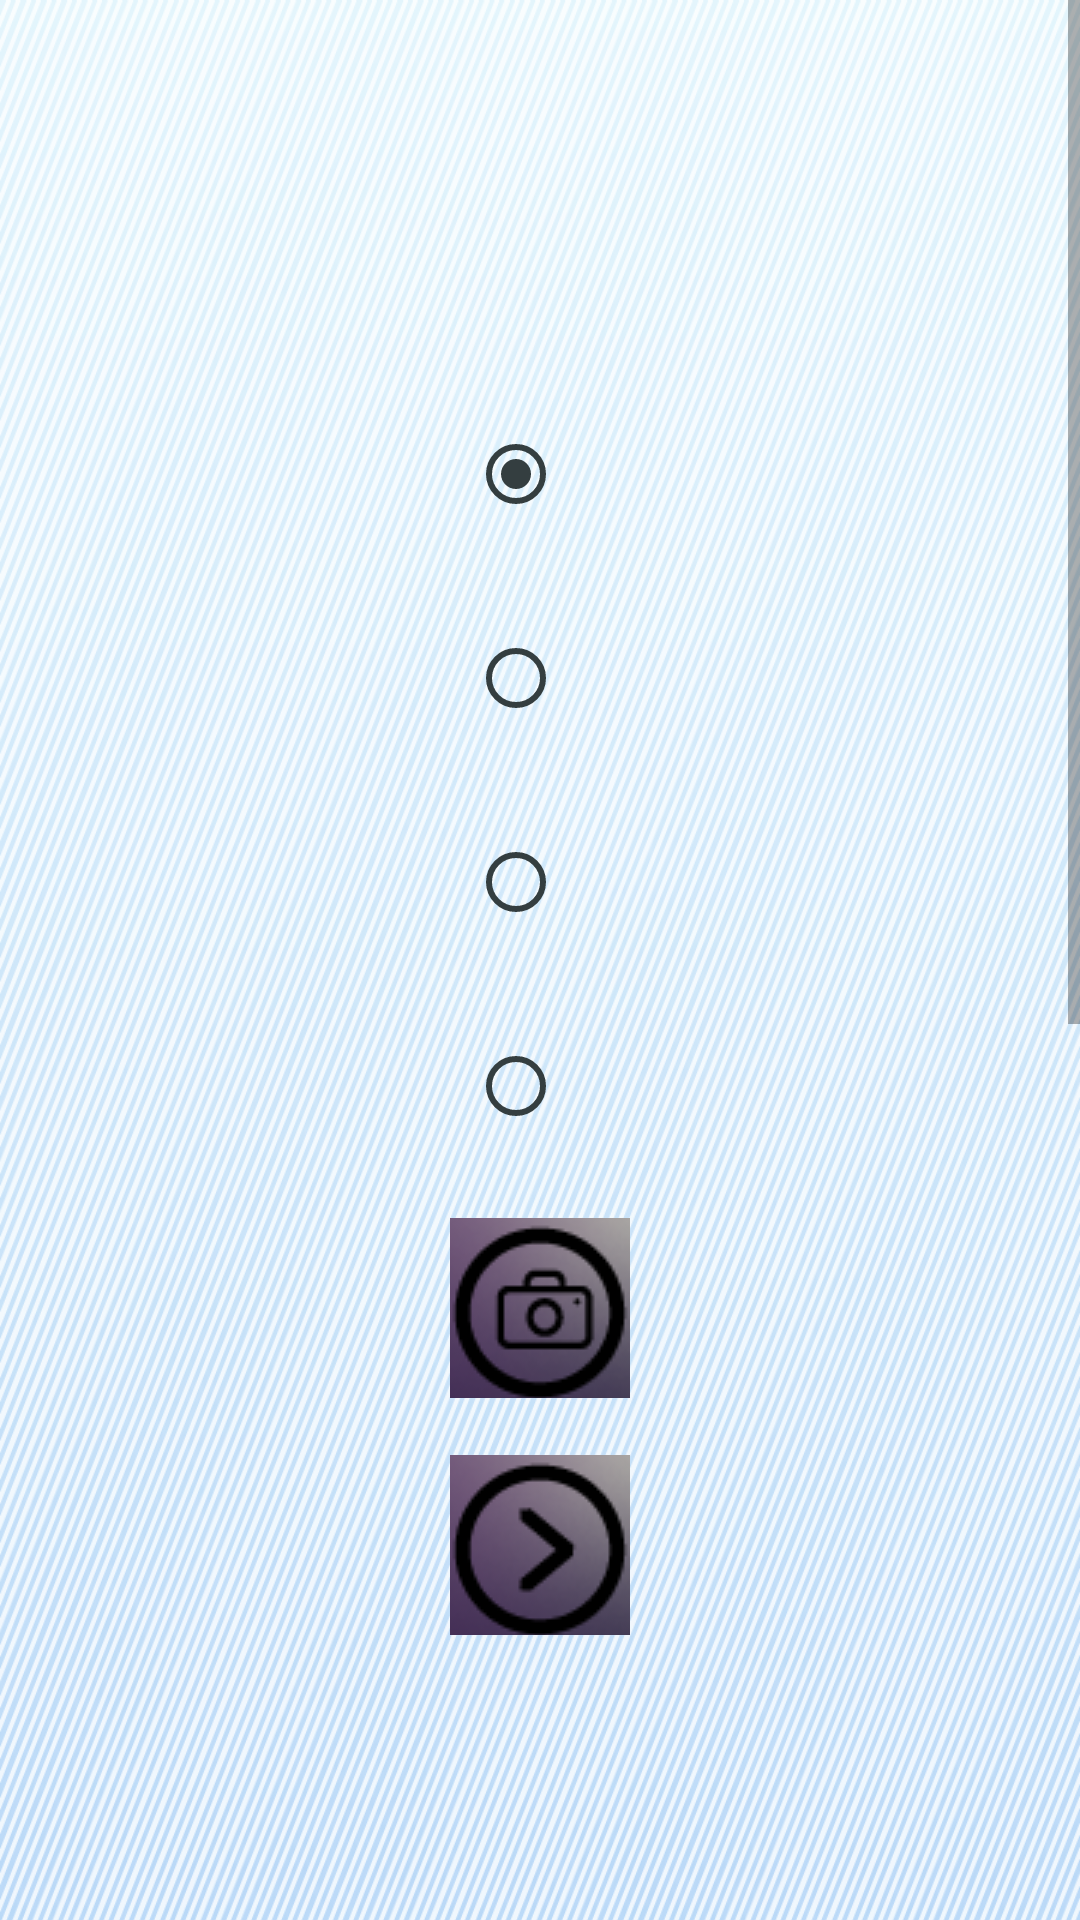

Named icons in this screenshot (1080*1920) and their centers, (x=x, y=y):
next: (x=540, y=1545)
